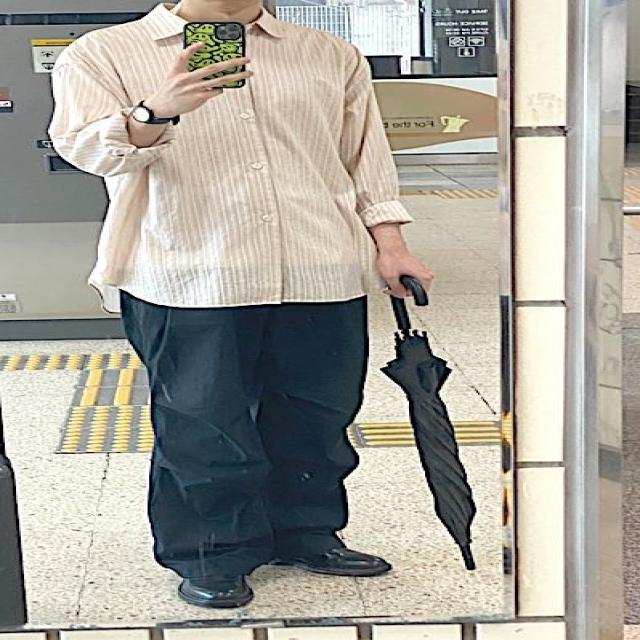cottonpants: (115, 282, 368, 584)
shirt: (54, 2, 415, 306)
